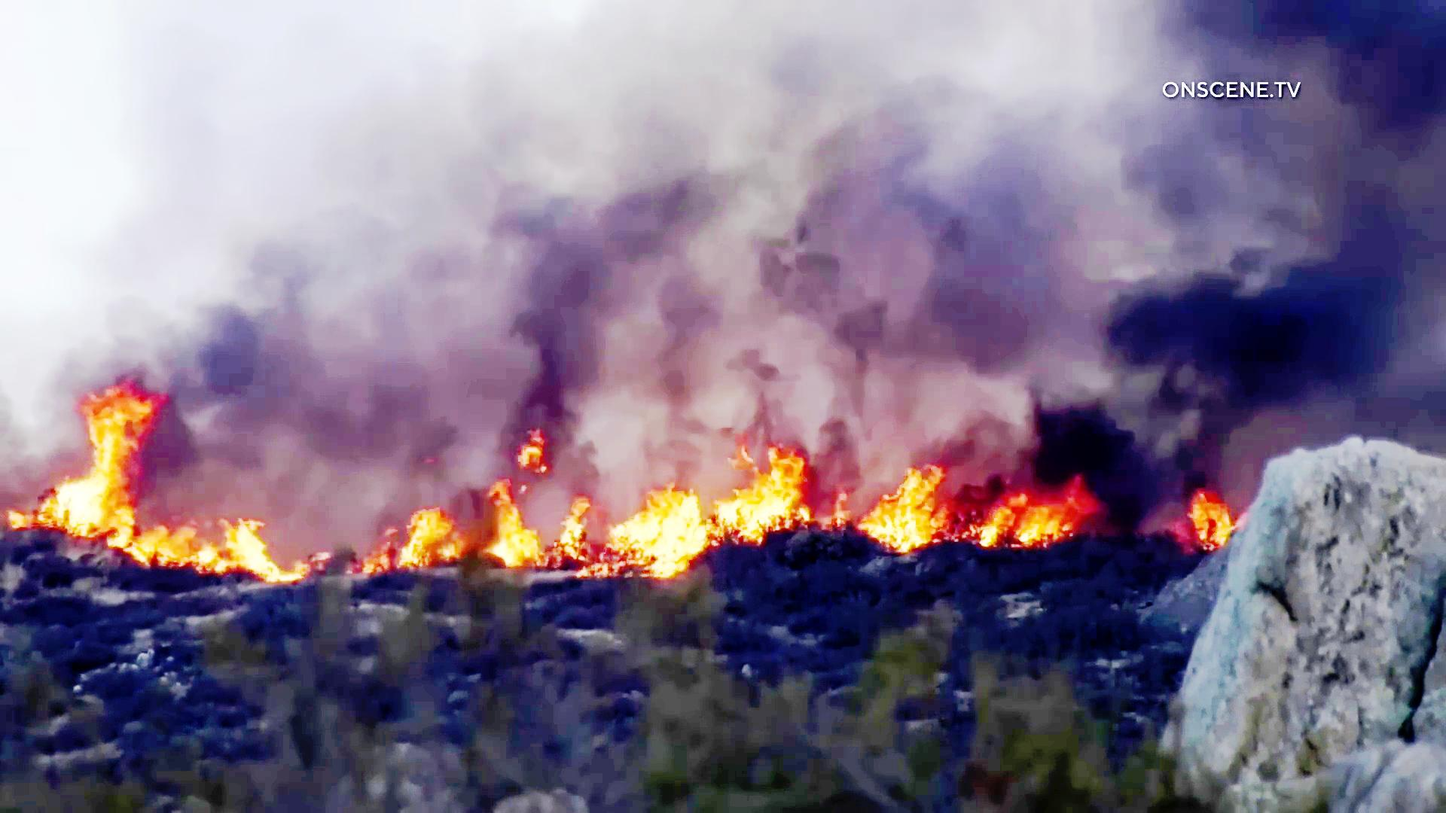fire: (1, 377, 155, 538), (467, 439, 594, 565), (130, 501, 298, 592), (607, 469, 719, 595), (712, 435, 819, 547), (844, 461, 983, 545), (966, 499, 1104, 559)
smoke: (1083, 207, 1446, 422), (448, 0, 629, 431)
